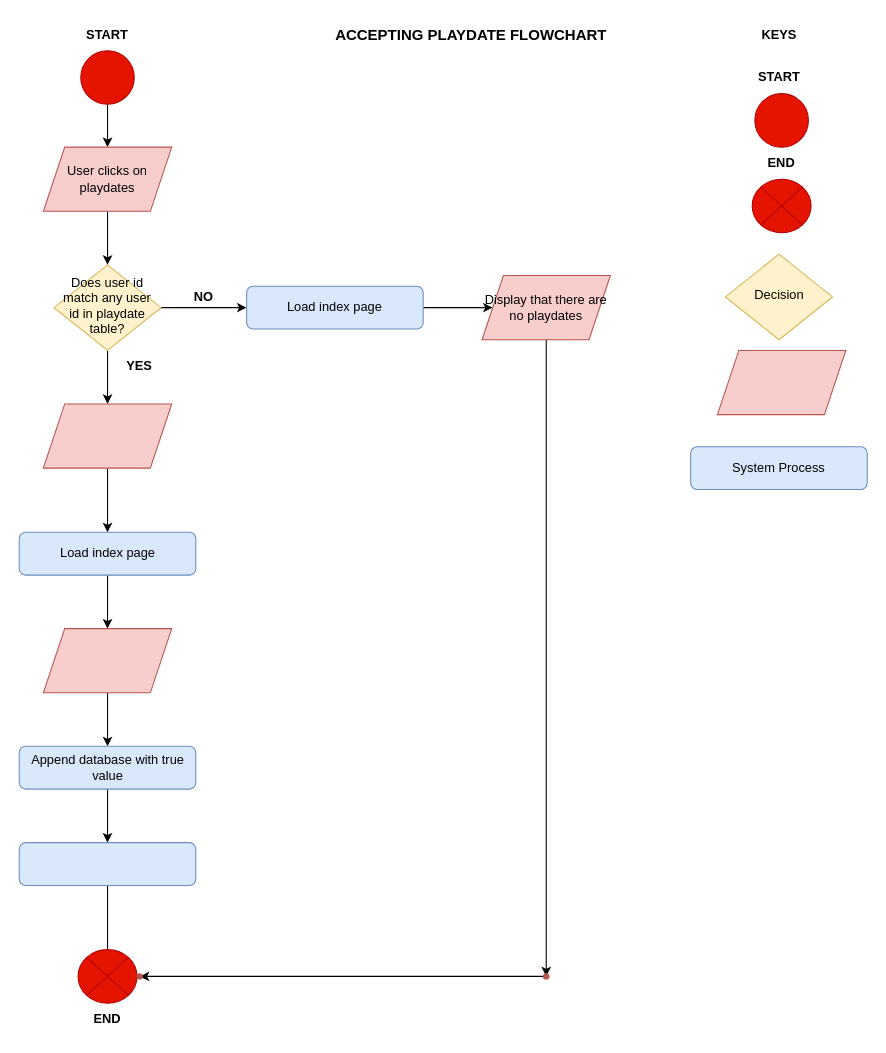
Image size: 886x1053. Some labels were removed from this diagram. Here are the shapes that lost their labels. From the top down, the box of each, then its label:
(716, 349, 846, 415): Input/Output
(42, 403, 172, 468): Pull matching playdates from database
(42, 628, 172, 693): User clicks accepting on attending
(18, 842, 196, 885): Reload index page
